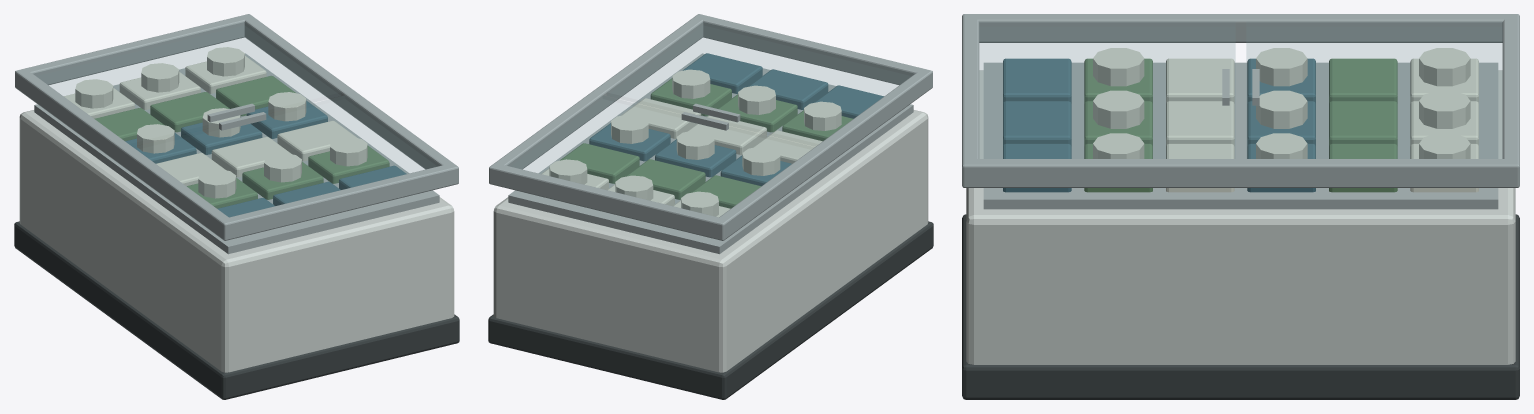
File: freezer.glb
The picture shows the model from 3 angles, left to right: view 1: azimuth 30°, elevation 25°; view 2: azimuth 150°, elevation 25°; view 3: azimuth 270°, elevation 25°; orthographic projection. The views are drawn at different scales.
Parts seen in each view (by area): view 1: freezer_fixture_Refrigerator enamel, freezer_fixture_Smoked glass approximation, freezer_fixture_Brushed stainless, freezer_fixture_Powder-coated graphite, freezer_micro_Dairy cartons, freezer_detail_Dairy cartons, freezer_detail_greenpack, freezer_detail_Pack blue; view 2: freezer_fixture_Refrigerator enamel, freezer_fixture_Smoked glass approximation, freezer_fixture_Brushed stainless, freezer_fixture_Powder-coated graphite, freezer_micro_Dairy cartons, freezer_detail_Pack blue, freezer_detail_greenpack, freezer_detail_Dairy cartons; view 3: freezer_fixture_Refrigerator enamel, freezer_fixture_Smoked glass approximation, freezer_fixture_Brushed stainless, freezer_fixture_Powder-coated graphite, freezer_micro_Dairy cartons, freezer_detail_greenpack, freezer_detail_Pack blue, freezer_detail_Dairy cartons.
Boxes of the visible parts, bbox=[...] form: freezer_fixture_Refrigerator enamel: bbox=[19, 110, 454, 372]; freezer_fixture_Smoked glass approximation: bbox=[37, 25, 436, 216]; freezer_fixture_Brushed stainless: bbox=[15, 14, 458, 254]; freezer_fixture_Powder-coated graphite: bbox=[14, 221, 459, 399]; freezer_micro_Dairy cartons: bbox=[75, 47, 367, 198]; freezer_detail_Dairy cartons: bbox=[64, 56, 357, 186]; freezer_detail_greenpack: bbox=[94, 75, 389, 208]; freezer_detail_Pack blue: bbox=[125, 100, 406, 217]; freezer_fixture_Refrigerator enamel: bbox=[493, 110, 928, 372]; freezer_fixture_Smoked glass approximation: bbox=[511, 25, 910, 216]; freezer_fixture_Brushed stainless: bbox=[489, 14, 932, 254]; freezer_fixture_Powder-coated graphite: bbox=[488, 221, 933, 399]; freezer_micro_Dairy cartons: bbox=[549, 69, 841, 216]; freezer_detail_Pack blue: bbox=[589, 53, 883, 186]; freezer_detail_greenpack: bbox=[560, 78, 853, 208]; freezer_detail_Dairy cartons: bbox=[541, 98, 822, 217]; freezer_fixture_Refrigerator enamel: bbox=[966, 70, 1515, 364]; freezer_fixture_Smoked glass approximation: bbox=[979, 26, 1502, 158]; freezer_fixture_Brushed stainless: bbox=[962, 14, 1519, 209]; freezer_fixture_Powder-coated graphite: bbox=[962, 214, 1519, 399]; freezer_micro_Dairy cartons: bbox=[1093, 48, 1470, 158]; freezer_detail_greenpack: bbox=[1084, 58, 1397, 192]; freezer_detail_Pack blue: bbox=[1003, 58, 1315, 192]; freezer_detail_Dairy cartons: bbox=[1166, 58, 1478, 192].
Bounding box in the file's own units: 1.7 × 1.24 × 2.6.
